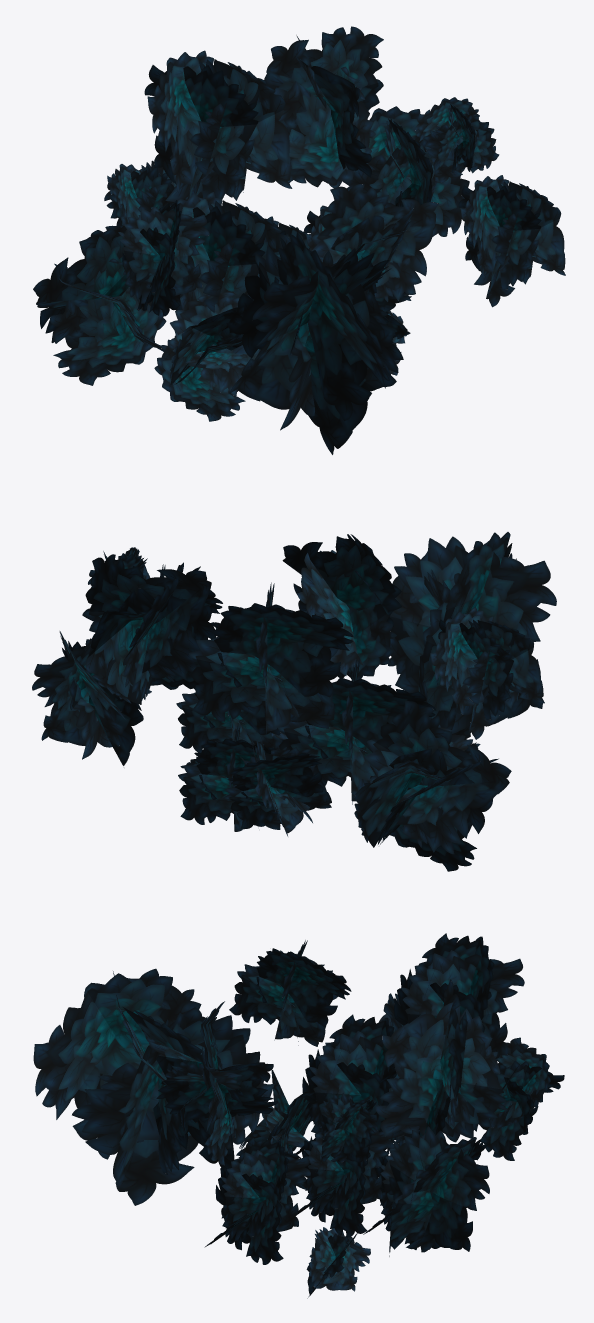
File: leaves.fbx
3 renders of one model, top to bottom at view 1: azimuth 30°, elevation 25°; view 2: azimuth 150°, elevation 25°; view 3: azimuth 270°, elevation 25°, orthographic. The views are drawn at different scales.
Visible parts, largest first — view 1: Blue_Leaves.011, Blue_Leaves.005, Blue_Leaves.001, Blue_Leaves.007, Blue_Leaves.003, Blue_Leaves.012, Blue_Leaves.013, Blue_Leaves.004, Blue_Leaves.008, Blue_Leaves.015, Blue_Leaves.002, Blue_Leaves.006; view 2: Blue_Leaves.011, Blue_Leaves.007, Blue_Leaves.005, Blue_Leaves.001, Blue_Leaves.012, Blue_Leaves.008, Blue_Leaves.015, Blue_Leaves.004, Blue_Leaves.006, Blue_Leaves.009, Blue_Leaves.016, Blue_Leaves.002; view 3: Blue_Leaves.011, Blue_Leaves.001, Blue_Leaves.004, Blue_Leaves.012, Blue_Leaves.005, Blue_Leaves.003, Blue_Leaves.008, Blue_Leaves.015, Blue_Leaves.016, Blue_Leaves.006, Blue_Leaves.002, Blue_Leaves.010 (+2 smaller).
Boxes of the visible parts, x1=… form: Blue_Leaves.011: x1=226, y1=232, x2=403, y2=454; Blue_Leaves.005: x1=144, y1=50, x2=292, y2=201; Blue_Leaves.001: x1=264, y1=26, x2=383, y2=188; Blue_Leaves.007: x1=33, y1=225, x2=166, y2=385; Blue_Leaves.003: x1=458, y1=175, x2=565, y2=307; Blue_Leaves.012: x1=311, y1=184, x2=438, y2=312; Blue_Leaves.013: x1=154, y1=292, x2=260, y2=421; Blue_Leaves.004: x1=342, y1=106, x2=469, y2=236; Blue_Leaves.008: x1=118, y1=200, x2=209, y2=316; Blue_Leaves.015: x1=162, y1=192, x2=290, y2=312; Blue_Leaves.002: x1=415, y1=97, x2=499, y2=182; Blue_Leaves.006: x1=104, y1=160, x2=187, y2=227; Blue_Leaves.011: x1=388, y1=532, x2=556, y2=739; Blue_Leaves.007: x1=354, y1=700, x2=511, y2=871; Blue_Leaves.005: x1=188, y1=582, x2=353, y2=733; Blue_Leaves.001: x1=82, y1=554, x2=216, y2=704; Blue_Leaves.012: x1=282, y1=534, x2=401, y2=679; Blue_Leaves.008: x1=430, y1=607, x2=544, y2=739; Blue_Leaves.015: x1=278, y1=658, x2=436, y2=804; Blue_Leaves.004: x1=32, y1=631, x2=151, y2=765; Blue_Leaves.006: x1=223, y1=735, x2=331, y2=836; Blue_Leaves.009: x1=178, y1=723, x2=286, y2=831; Blue_Leaves.016: x1=176, y1=684, x2=281, y2=752; Blue_Leaves.002: x1=88, y1=547, x2=150, y2=587; Blue_Leaves.011: x1=33, y1=968, x2=274, y2=1205; Blue_Leaves.001: x1=375, y1=979, x2=507, y2=1142; Blue_Leaves.004: x1=388, y1=1126, x2=489, y2=1256; Blue_Leaves.012: x1=145, y1=1001, x2=277, y2=1165; Blue_Leaves.005: x1=379, y1=933, x2=524, y2=1083; Blue_Leaves.003: x1=204, y1=1138, x2=310, y2=1264; Blue_Leaves.008: x1=229, y1=940, x2=351, y2=1046; Blue_Leaves.015: x1=295, y1=1014, x2=404, y2=1176; Blue_Leaves.016: x1=297, y1=1126, x2=394, y2=1237; Blue_Leaves.006: x1=474, y1=1037, x2=564, y2=1160; Blue_Leaves.002: x1=320, y1=1093, x2=377, y2=1163; Blue_Leaves.010: x1=306, y1=1227, x2=370, y2=1298.
Size of the model in its own units: 1975 by 1202 by 1937.
